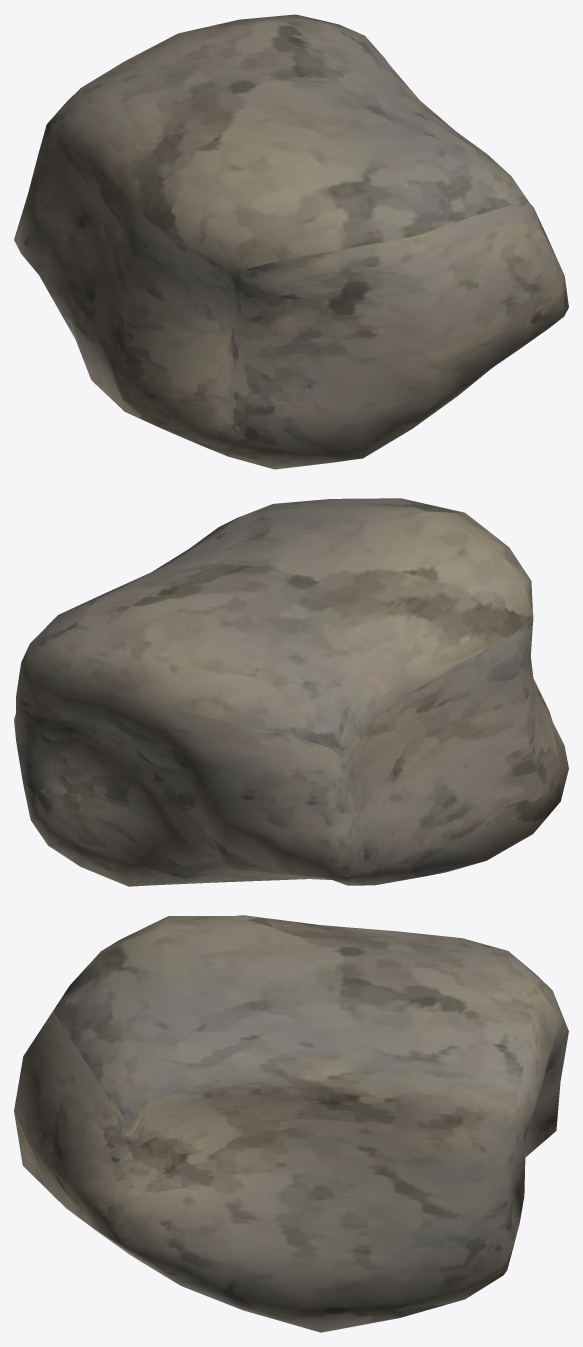
The model's file is pedra1.fbx.
3 views of the same model, one above another, from view 1: azimuth 30°, elevation 25°; view 2: azimuth 150°, elevation 25°; view 3: azimuth 270°, elevation 25° (orthographic). The views are drawn at different scales.
Parts seen in each view (by area): view 1: Cube.001; view 2: Cube.001; view 3: Cube.001.
Boxes of the visible parts, left/top/right/bottom form: Cube.001: left=14, top=14, right=568, bottom=469; Cube.001: left=14, top=498, right=568, bottom=886; Cube.001: left=14, top=915, right=568, bottom=1332.
Bounding box in the file's own units: 617 × 450 × 733.
